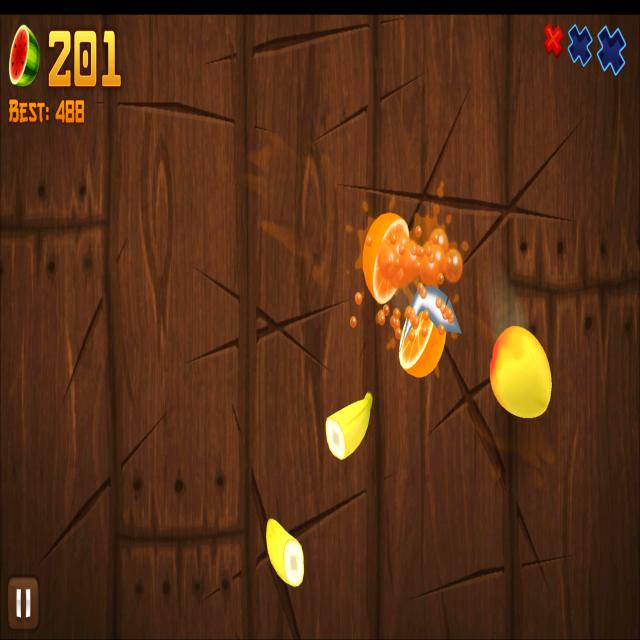fruit: (489, 324, 553, 419)
